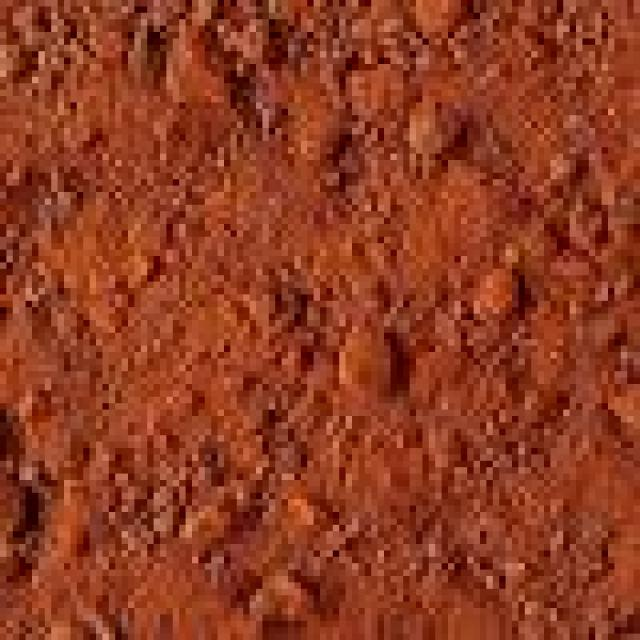Red Soil: (68, 49, 572, 580)
